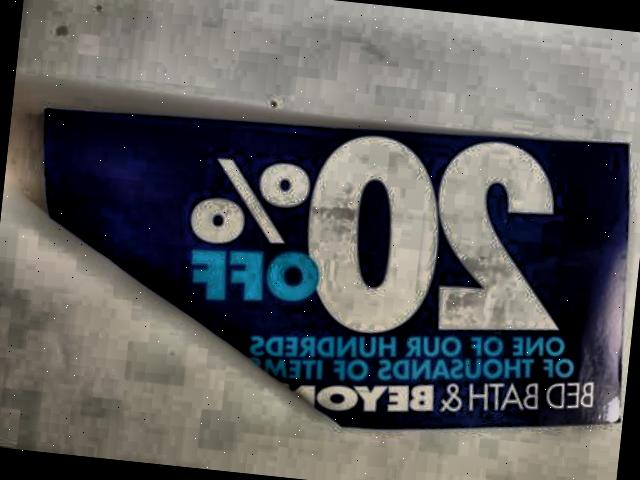Paper: (13, 76, 640, 463)
